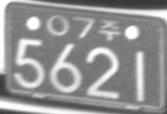0: (46, 13, 69, 36)
1: (125, 50, 156, 101)
2: (85, 45, 120, 100)
5: (13, 37, 45, 88)
6: (48, 43, 82, 94)
7: (71, 14, 95, 38)
주: (98, 18, 121, 41)
